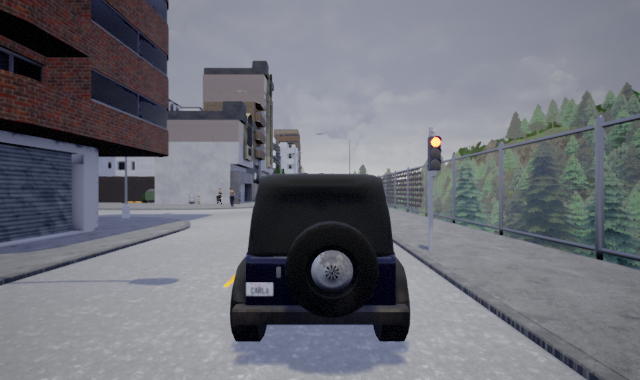pedestrian: (215, 186, 225, 206), (227, 186, 236, 206)
traffic_light: (427, 134, 442, 173)
vehicle: (229, 170, 411, 343)
